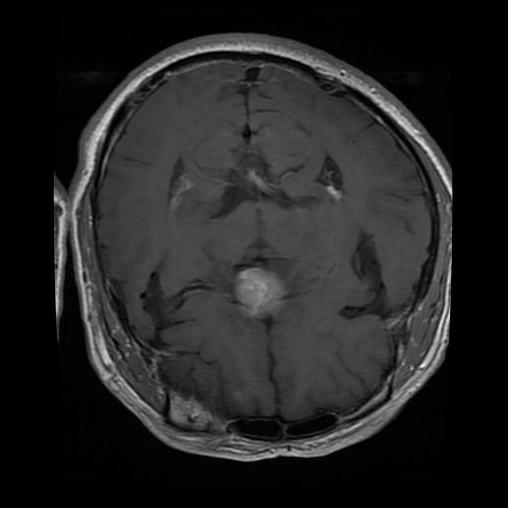Tumour-Pituitary: (232, 260, 281, 317)
